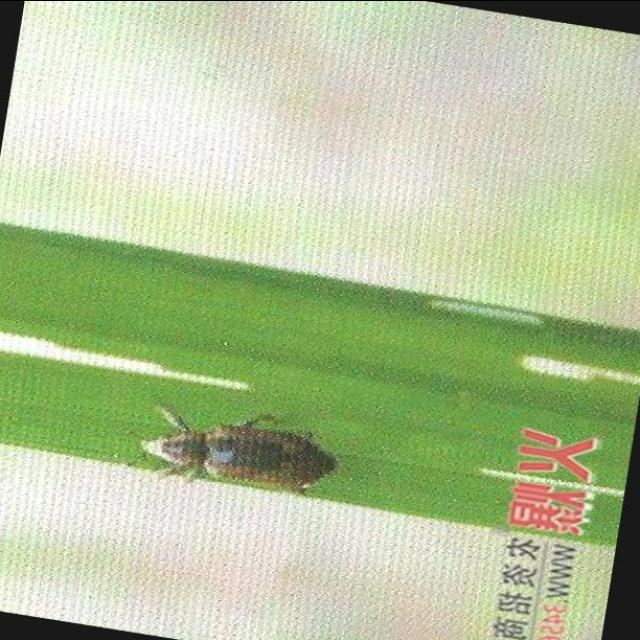ricebug: (142, 406, 335, 492)
